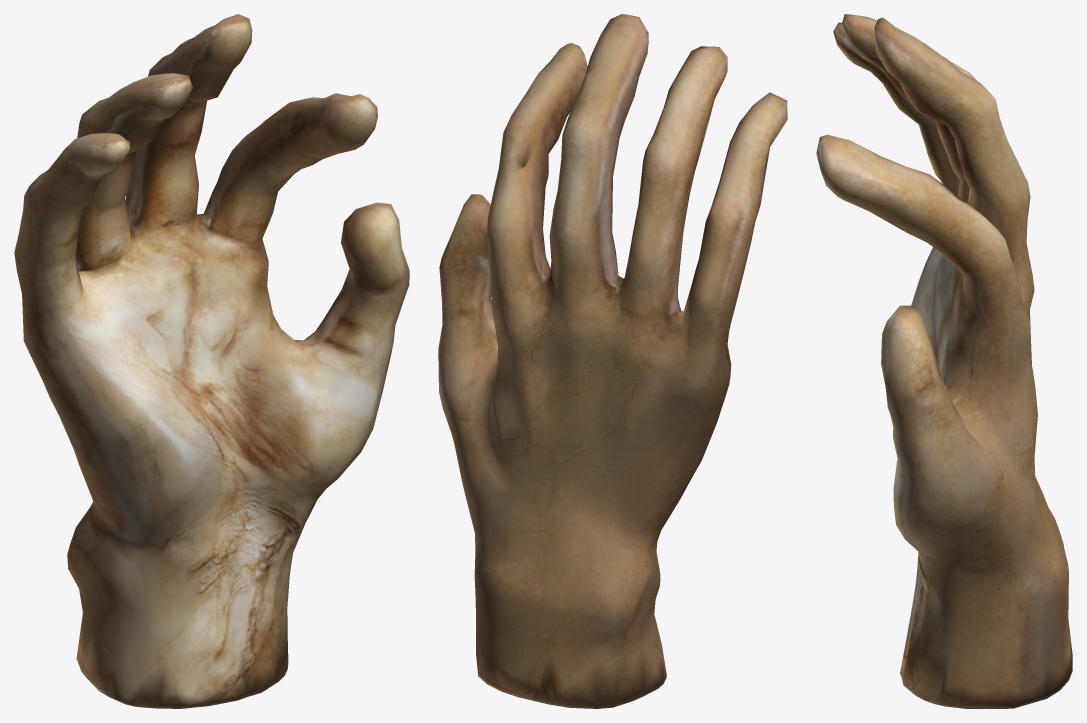
The model's file is testHand.glb.
3 views of the same model, side by side, from view 1: azimuth 30°, elevation 25°; view 2: azimuth 150°, elevation 25°; view 3: azimuth 270°, elevation 25° (orthographic). The views are drawn at different scales.
Parts seen in each view (by area): view 1: Mesh_0; view 2: Mesh_0; view 3: Mesh_0.
Boxes of the visible parts, box(x1,y1,x2,y2) form: Mesh_0: box(14, 14, 409, 708); Mesh_0: box(438, 14, 787, 708); Mesh_0: box(816, 14, 1072, 708).
Size of the model in its own units: 0.5379 by 1 by 0.3596.
1 material, 1 textured.
